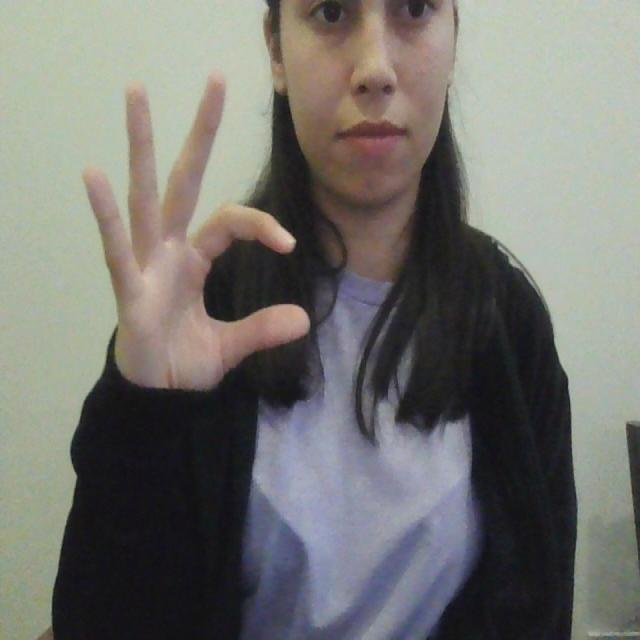Tuvalet: (70, 66, 340, 432)
